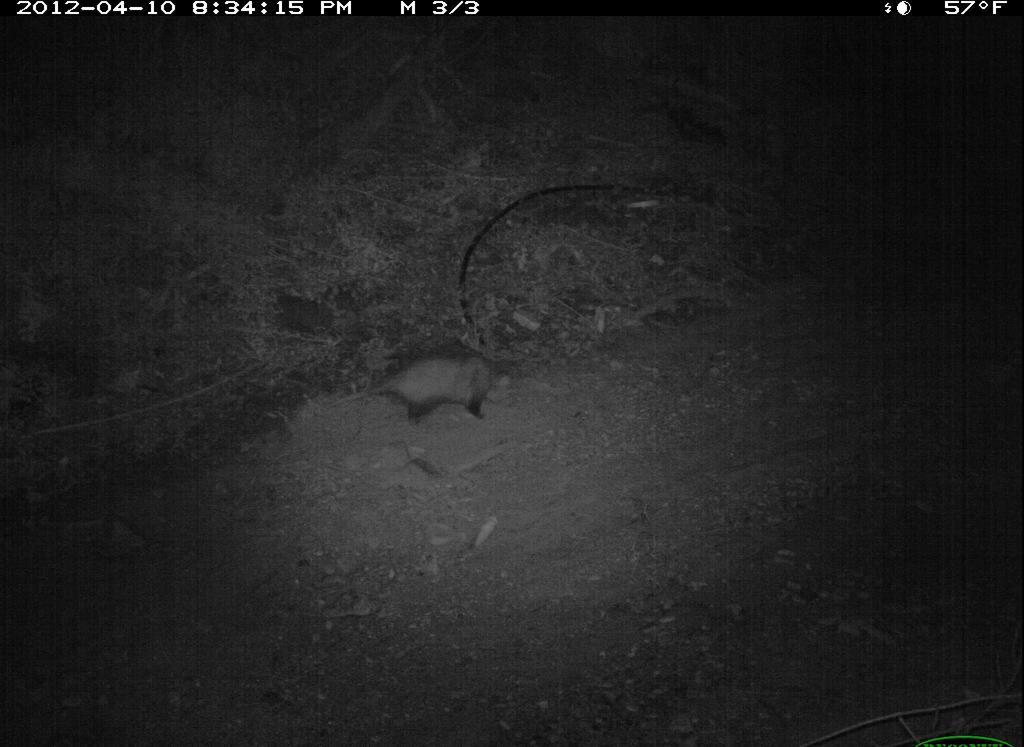opossum: (345, 348, 516, 430)
